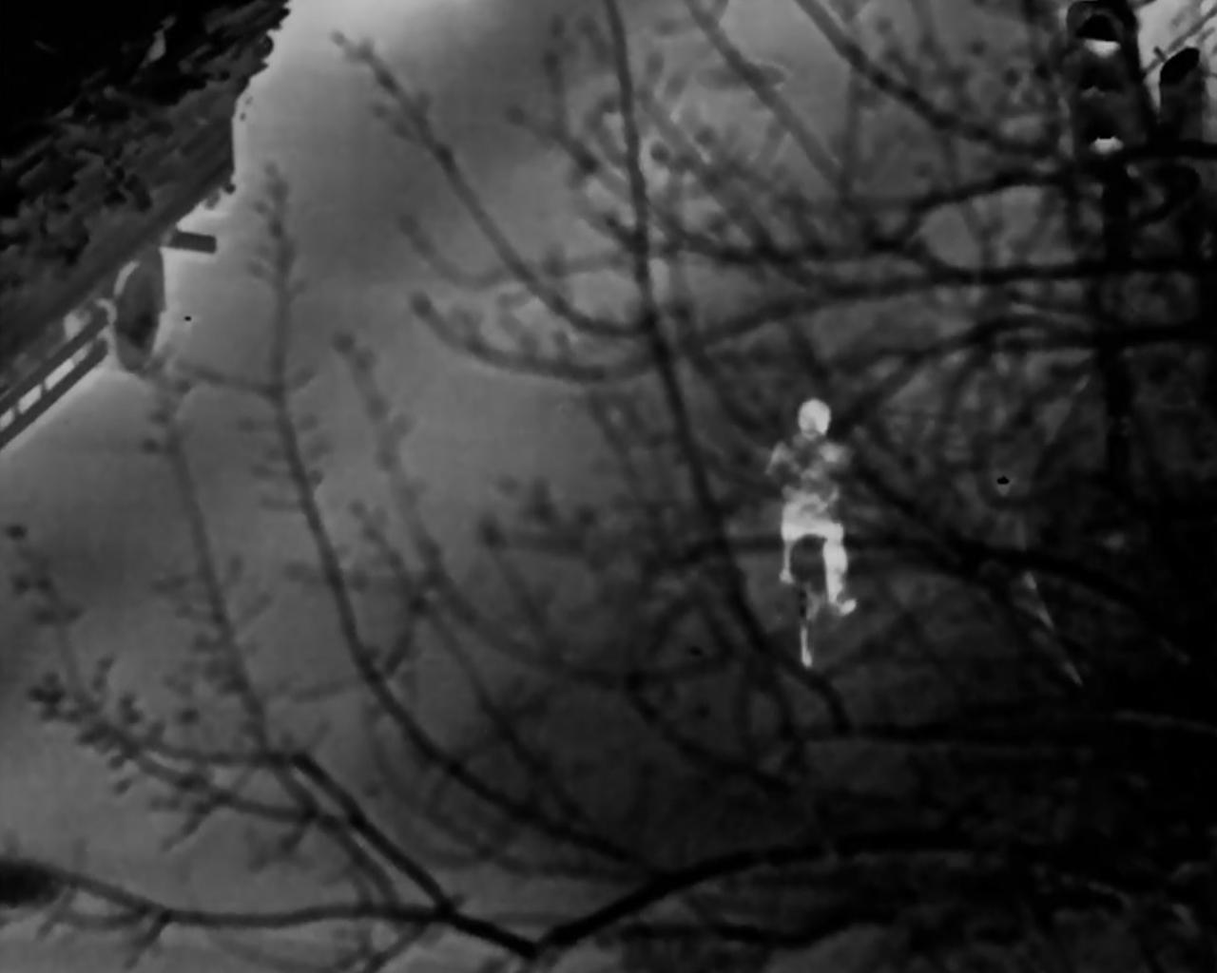person: (769, 394, 865, 633)
